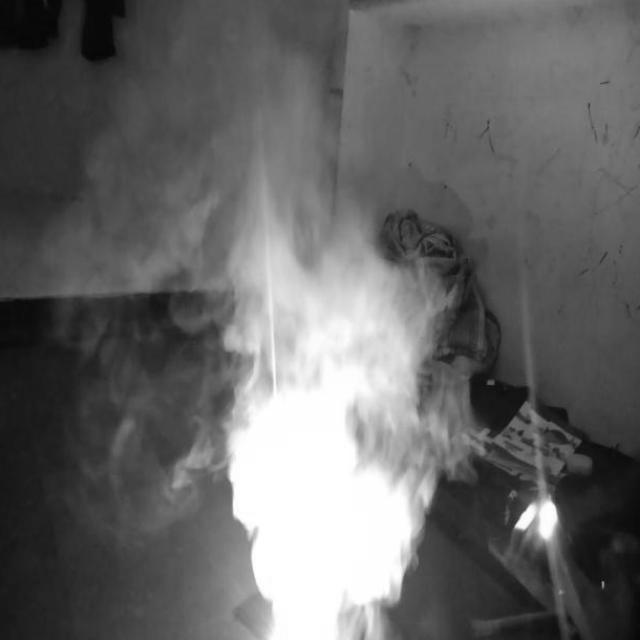fire: (215, 206, 466, 640)
